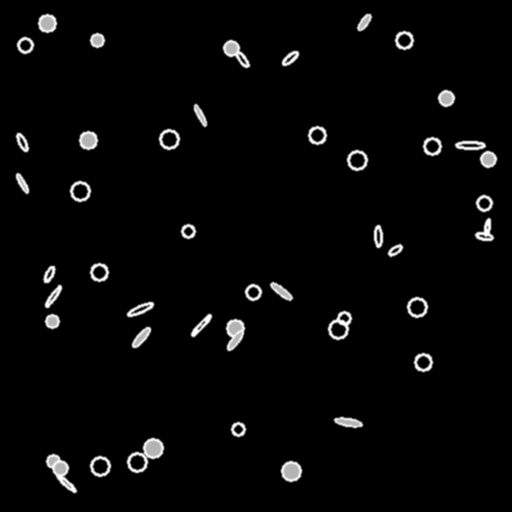pseudomonas: (190, 313, 212, 337), (126, 301, 154, 317), (131, 326, 151, 348), (270, 281, 292, 301), (55, 473, 77, 493), (225, 329, 245, 351), (44, 285, 62, 307), (280, 49, 300, 67), (192, 104, 208, 126), (234, 50, 250, 68), (356, 13, 372, 31), (334, 417, 362, 427), (15, 173, 29, 193), (15, 132, 29, 152), (42, 265, 56, 283), (387, 243, 403, 257), (475, 231, 493, 241), (456, 142, 484, 148), (483, 218, 491, 236), (375, 226, 381, 246)
synechocystis: (408, 298, 426, 316), (329, 320, 347, 338), (144, 439, 162, 457), (71, 182, 89, 200), (348, 151, 366, 169), (282, 462, 300, 480), (91, 457, 109, 475), (128, 453, 146, 471), (160, 130, 178, 148), (396, 32, 412, 48), (309, 127, 325, 143), (80, 132, 96, 148), (91, 264, 107, 280), (415, 354, 431, 370), (424, 138, 440, 154), (227, 320, 243, 336), (39, 15, 55, 31), (477, 196, 491, 210), (224, 41, 238, 55), (18, 38, 32, 52), (481, 152, 495, 166), (246, 285, 260, 299), (53, 461, 67, 475), (439, 91, 453, 105), (91, 34, 103, 46), (46, 315, 58, 327), (182, 225, 194, 237), (232, 423, 244, 435), (47, 455, 59, 467), (338, 312, 350, 324)
